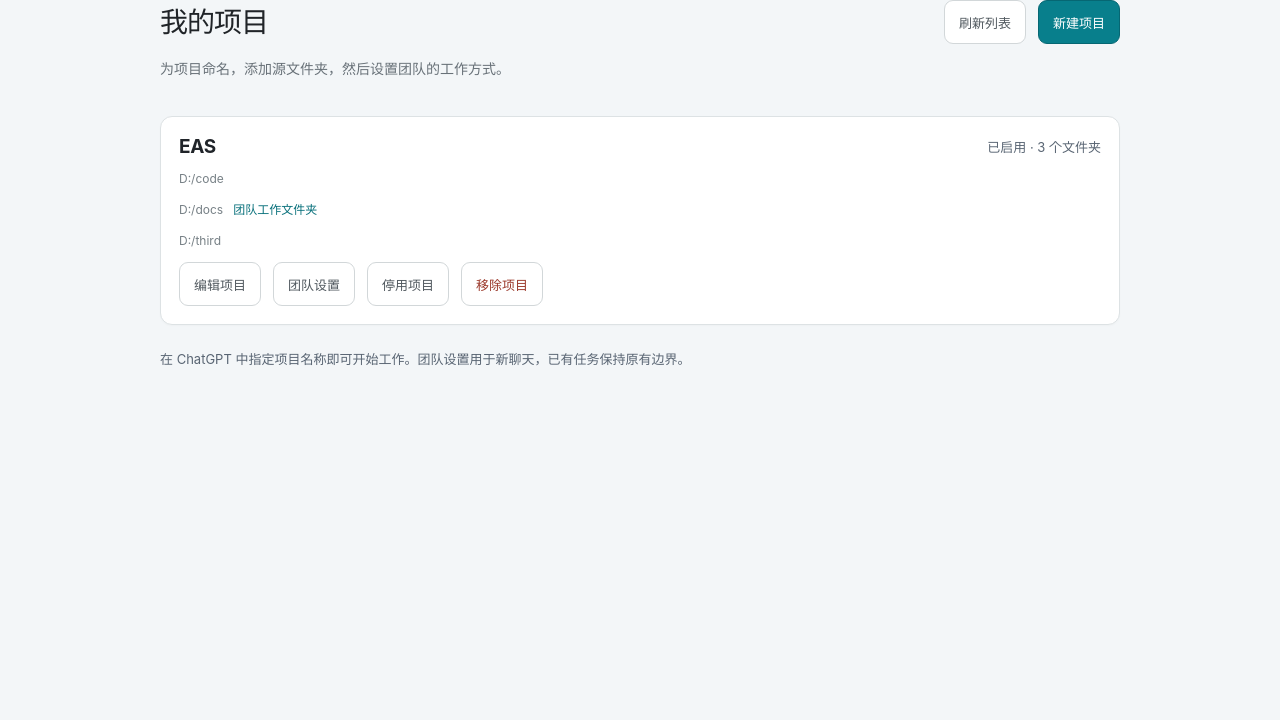
Scenario: clears the team folder if the user removes it from a project
The width and height of the screenshot is (1280, 720).
Click the button "编辑项目": [220, 284] box [179,262,261,306]
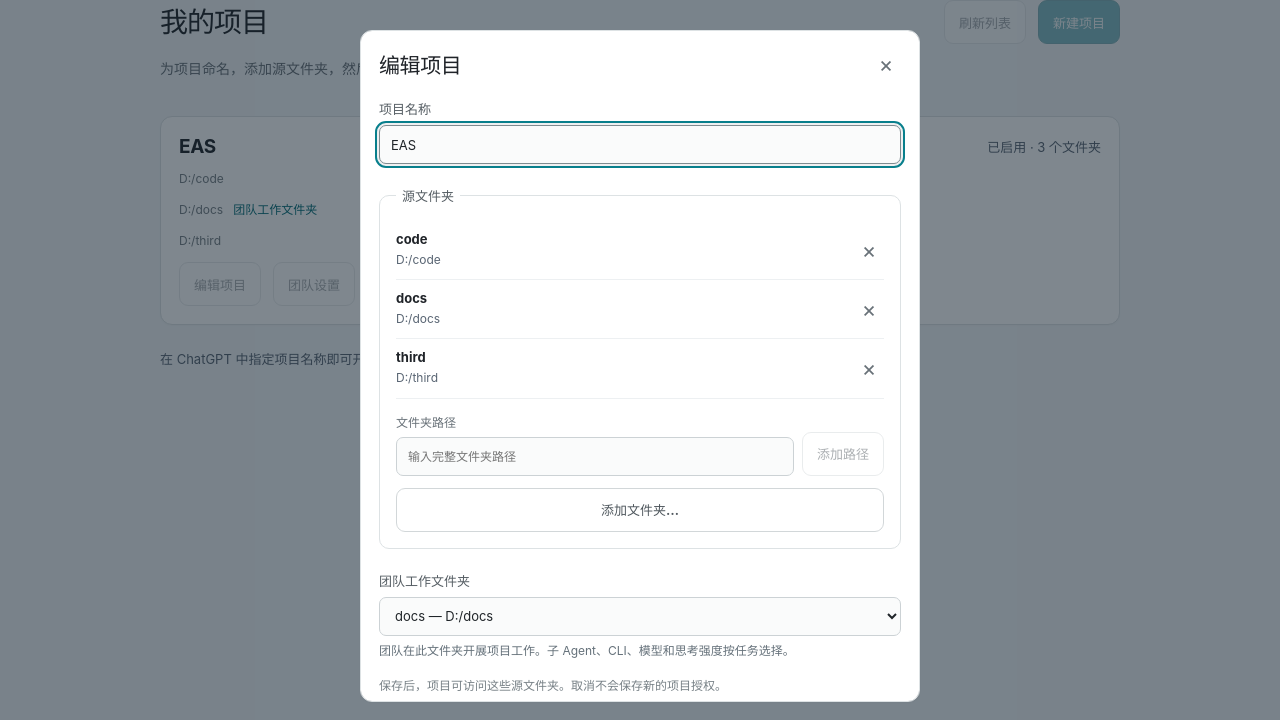
Click the button named "移除源文件夹 docs": [869, 309] box [854,294,884,324]
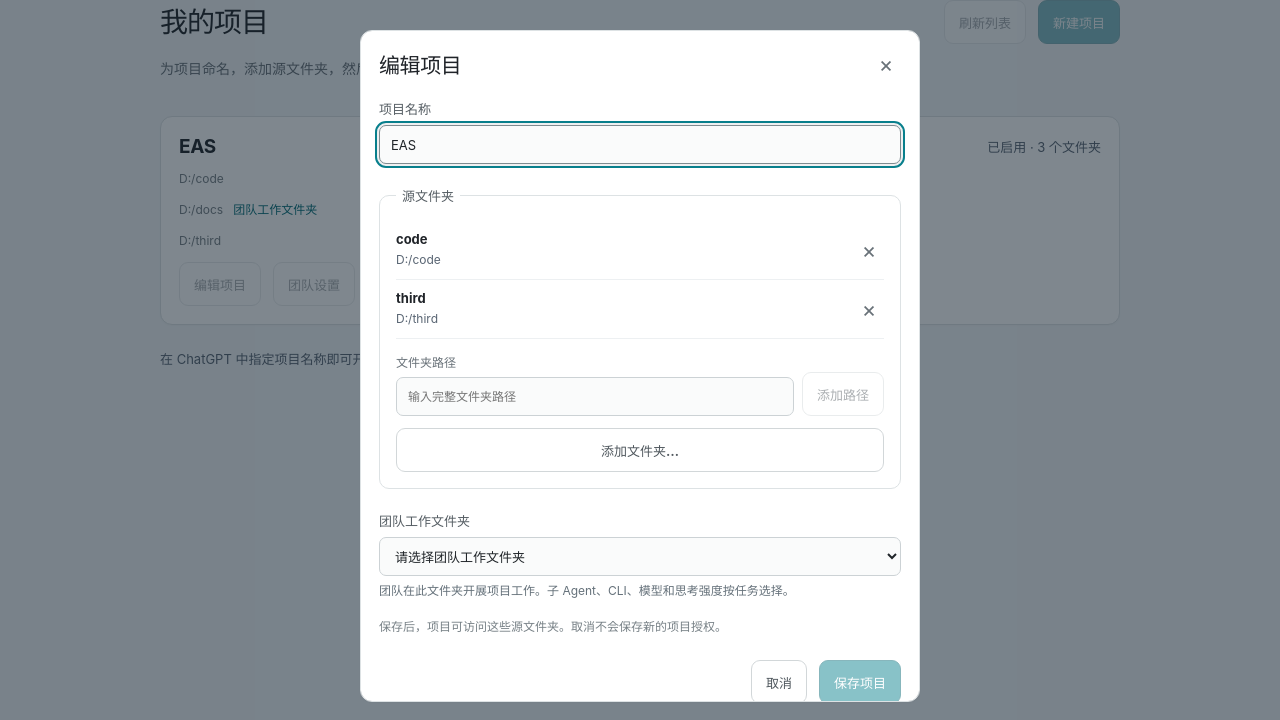
Check: the dropdown labelled "团队工作文件夹 团队在此文件夹开展项目工作。子 Agent、CLI、模型和思考强度按任务选择。" shows "请选择团队工作文件夹", box [379,537,901,576]
Check: the button "保存项目" is disabled, box [819,660,901,702]
